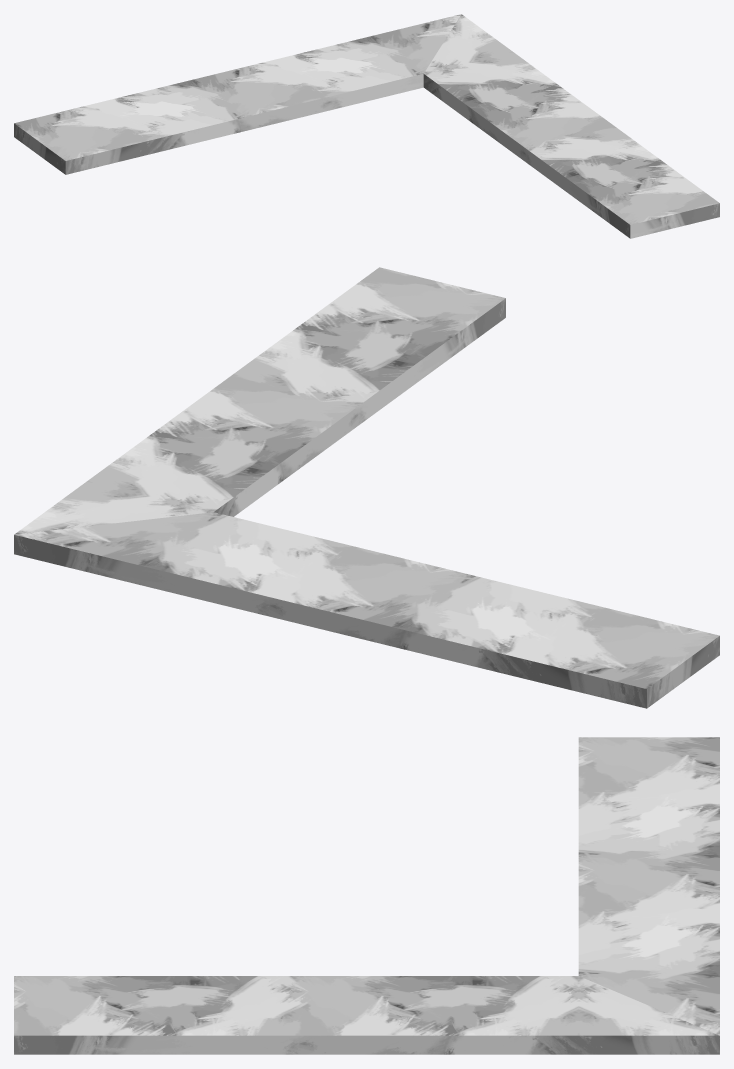
File: BWallRoofCornerFlat_A.fbx
The picture shows the model from 3 angles, top to bottom: view 1: azimuth 30°, elevation 25°; view 2: azimuth 150°, elevation 25°; view 3: azimuth 270°, elevation 25°; orthographic projection. The views are drawn at different scales.
Visible parts, largest first — view 1: BWallRoofFlatCorner_A; view 2: BWallRoofFlatCorner_A; view 3: BWallRoofFlatCorner_A.
Boxes of the visible parts, <box> form: BWallRoofFlatCorner_A: <box>14,14,719,238</box>; BWallRoofFlatCorner_A: <box>14,267,719,708</box>; BWallRoofFlatCorner_A: <box>14,737,719,1054</box>.
Size of the model in its own units: 1000 by 29.52 by 1000.
